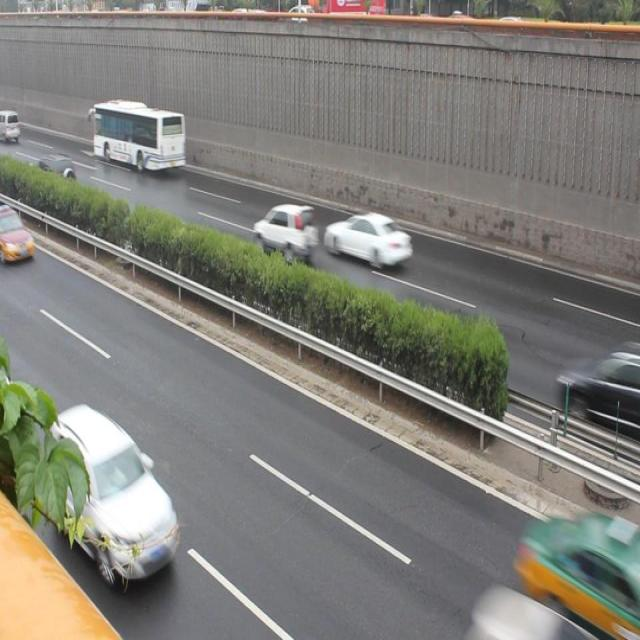car: (47, 398, 188, 578), (330, 207, 418, 275), (255, 197, 325, 257), (0, 202, 40, 273), (33, 148, 81, 196)
van: (91, 96, 186, 178)
